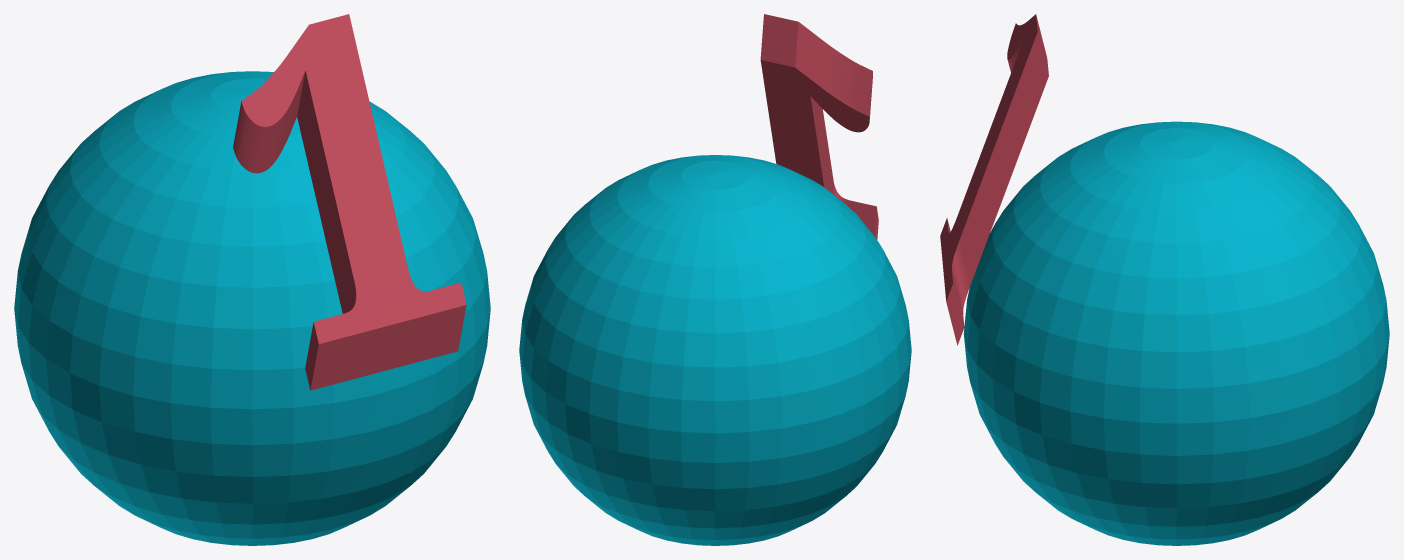
Rendered from number_1.glb.
3 views of the same model, side by side, from view 1: azimuth 30°, elevation 25°; view 2: azimuth 150°, elevation 25°; view 3: azimuth 270°, elevation 25° (orthographic). The views are drawn at different scales.
Visible parts, largest first — view 1: Mesh_Mesh_head_geo.001_lambert2SG.001; view 2: Mesh_Mesh_head_geo.001_lambert2SG.001; view 3: Mesh_Mesh_head_geo.001_lambert2SG.001.
Part boxes in pixels (<box>): Mesh_Mesh_head_geo.001_lambert2SG.001: <box>14,14,490,545</box>; Mesh_Mesh_head_geo.001_lambert2SG.001: <box>519,14,911,545</box>; Mesh_Mesh_head_geo.001_lambert2SG.001: <box>940,14,1389,545</box>.
Size of the model in its own units: 20 by 26.06 by 21.11.
